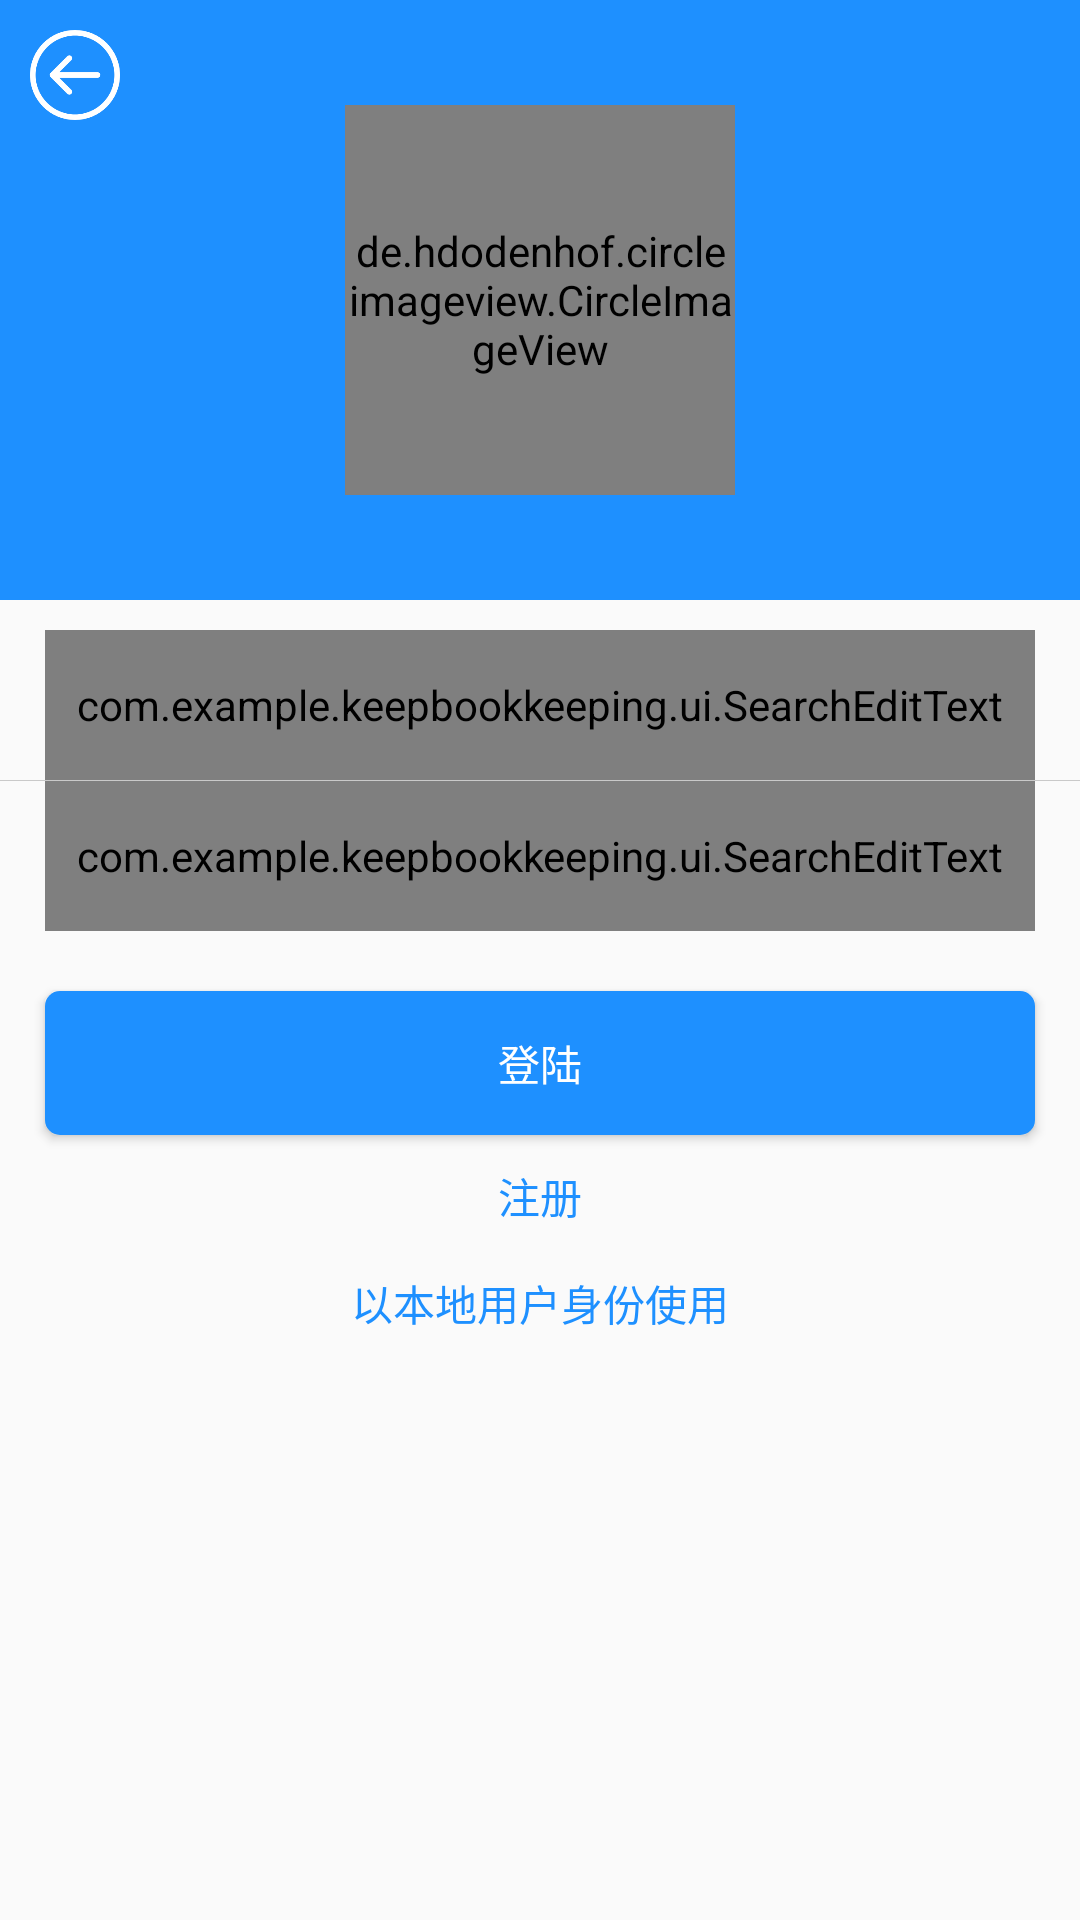

Screen size 1080*1920. Icon name, then its center in pixels as [x,y]:
back arrow: [75,75]
